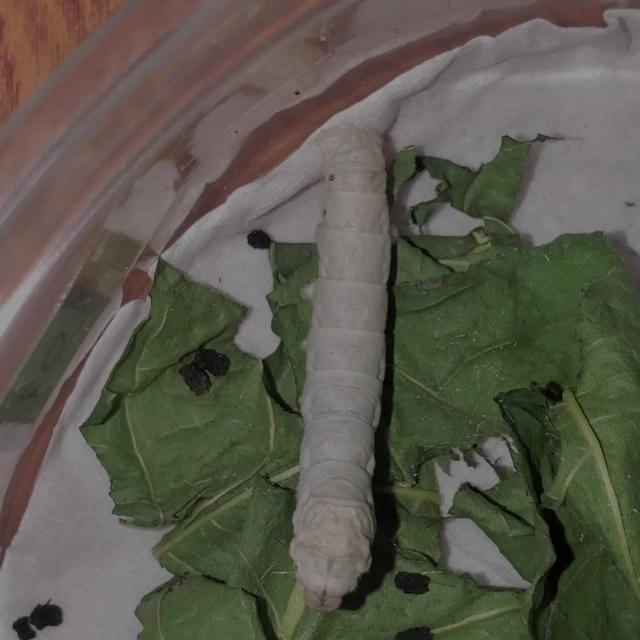Healthy: (264, 94, 431, 623)
